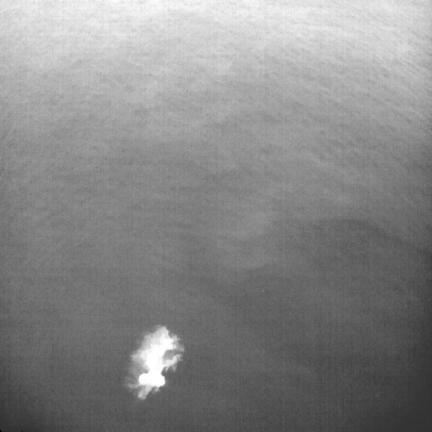flukeprints: (128, 326, 184, 399)
